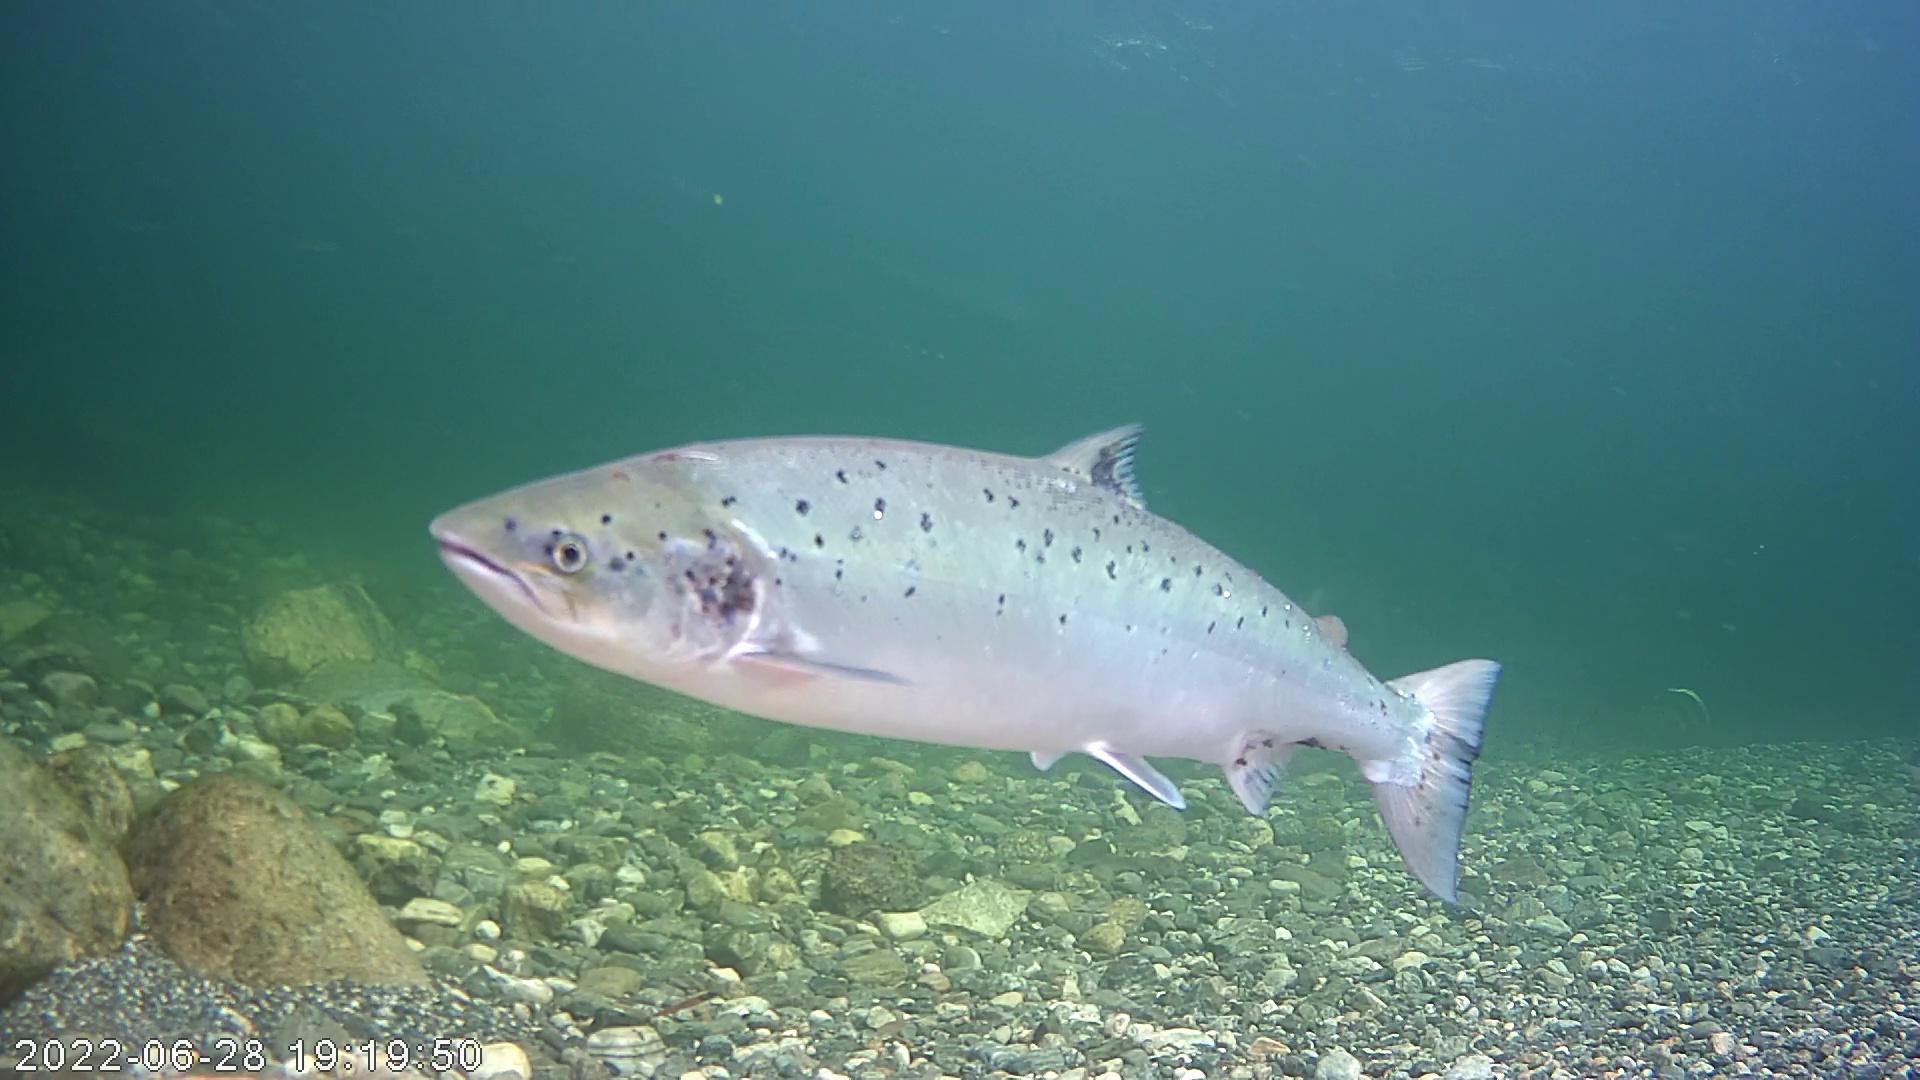salmon: (455, 284, 1520, 918)
